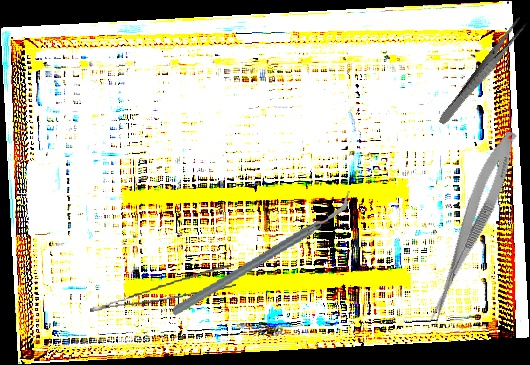Chopper: (159, 191, 365, 317)
Dressing Forceps: (436, 15, 530, 129)
Micro Scissor: (421, 126, 524, 332)
Tissue Forceps: (86, 264, 238, 312)
